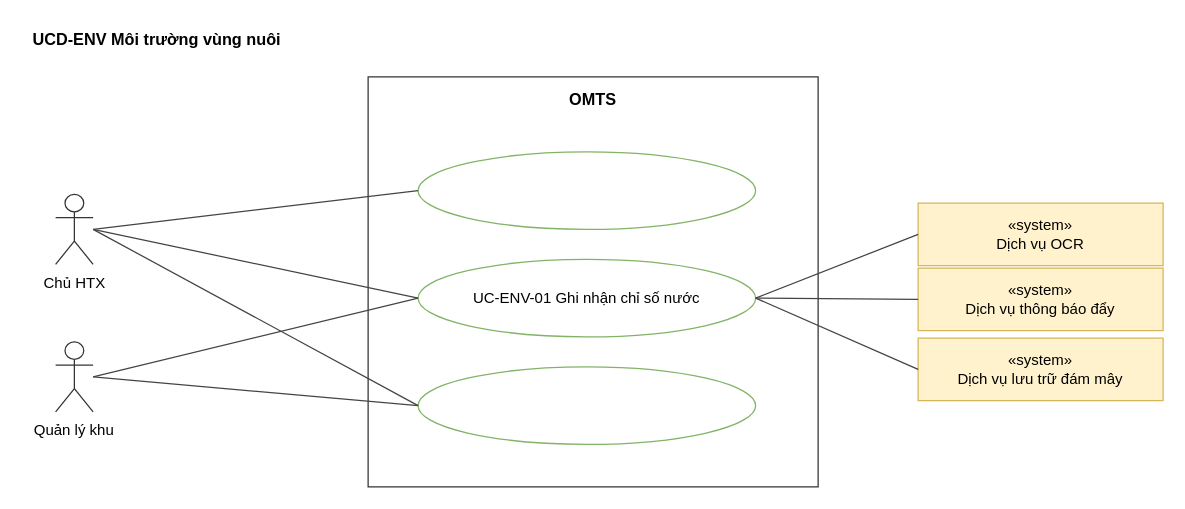
The diagram is 1185 pixels wide and 509 high, and some of its shapes have lost their labels. Each missing label, with the centre of its shape:
UC-ENV-02 Thiết lập ngưỡng cảnh báo nước: point (586, 190)
UC-ENV-03 Xem lịch sử chỉ số nước: point (586, 405)
